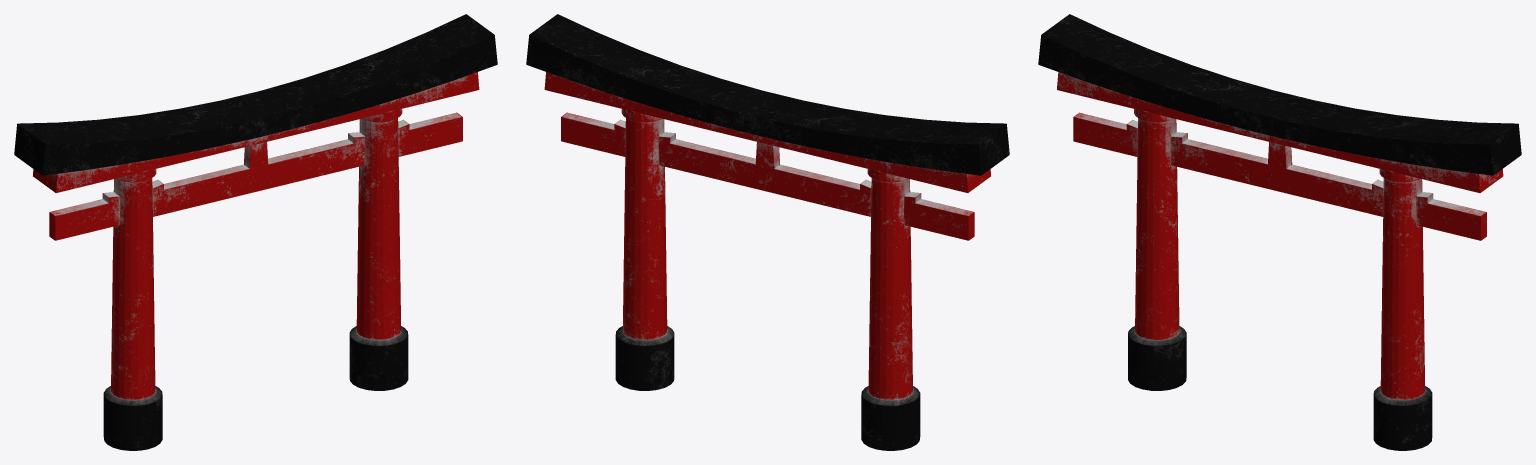
The model's file is torigate.glb.
The picture shows the model from 3 angles, left to right: view 1: azimuth 30°, elevation 25°; view 2: azimuth 150°, elevation 25°; view 3: azimuth 330°, elevation 25°; orthographic projection.
Parts seen in each view (by area): view 1: toriigate1_pillars_pillar_right; view 2: toriigate1_pillars_pillar_right; view 3: toriigate1_pillars_pillar_right.
Boxes of the visible parts, left/top/right/bottom form: toriigate1_pillars_pillar_right: left=14, top=14, right=497, bottom=450; toriigate1_pillars_pillar_right: left=526, top=14, right=1009, bottom=450; toriigate1_pillars_pillar_right: left=1038, top=14, right=1521, bottom=450.
Bounding box in the file's own units: 5.19 × 3.59 × 0.5839.
Materials: 1 (1 with a texture image).
